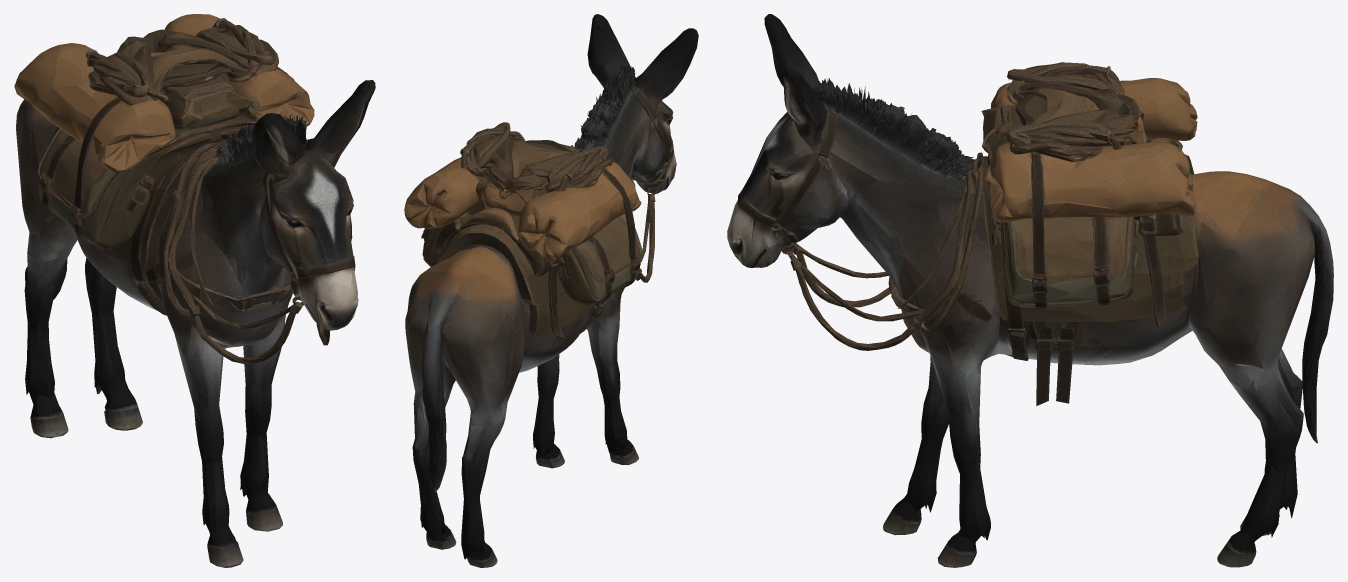
Rendered from donkey.glb.
3 views of the same model, side by side, from view 1: azimuth 30°, elevation 25°; view 2: azimuth 150°, elevation 25°; view 3: azimuth 270°, elevation 25° (orthographic). The views are drawn at different scales.
Size of the model in its own units: 0.8737 by 1.74 by 1.9.
Materials: 1 (1 with a texture image).
